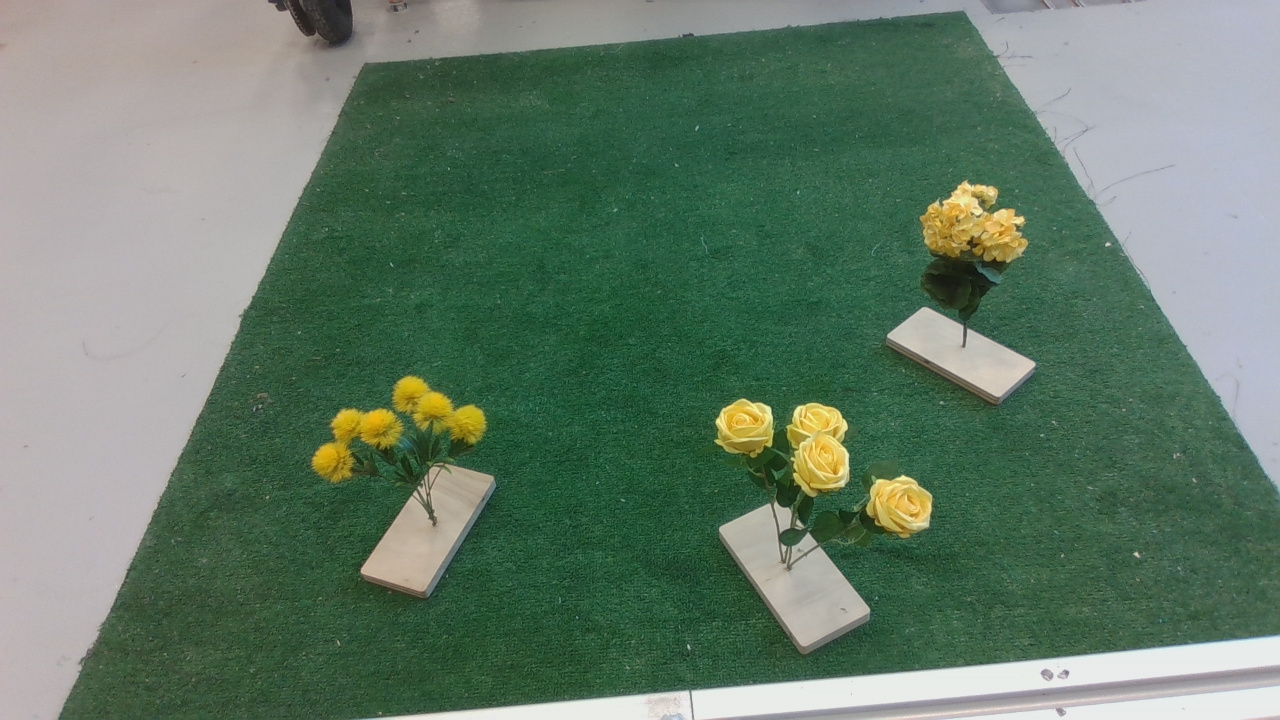dandelion: (299, 377, 501, 499)
geranium: (917, 171, 1040, 335)
rose: (704, 388, 949, 566)
